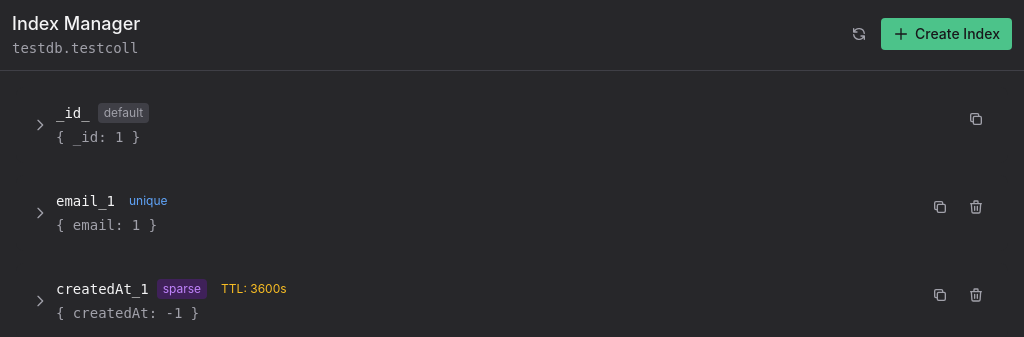
Test: IndexView › copy index details › shows Copied! feedback after successful copy
Expected: the text "email_1" is shown, x1=56 y1=191 x2=115 y2=211
Click the button titled "Copy index details" in the row of "unique": (940, 207) x1=924 y1=191 x2=956 y2=223
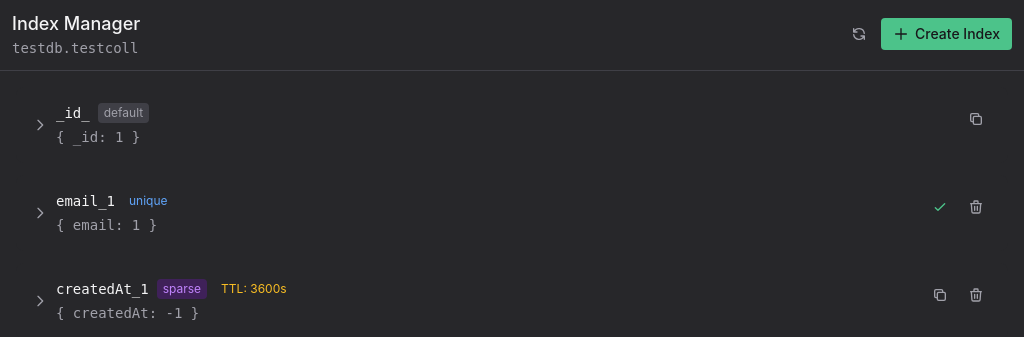
Expected: the button titled "Copied!" is shown, x1=924 y1=191 x2=956 y2=223
